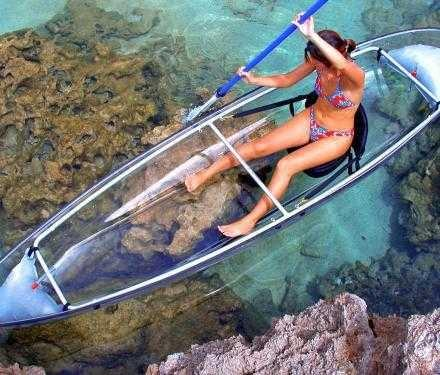kayak: (0, 34, 440, 360)
